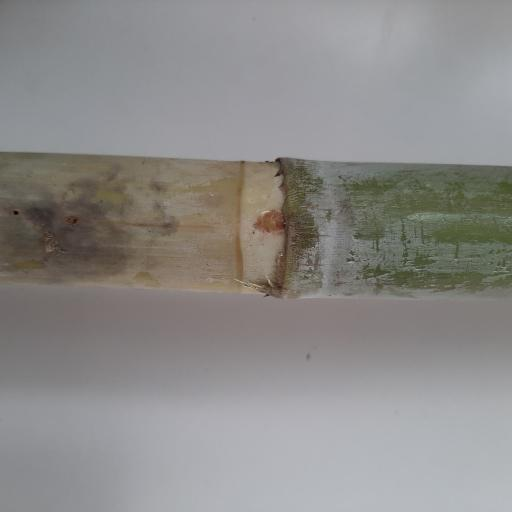Damage_Bud: (253, 208, 284, 235)
